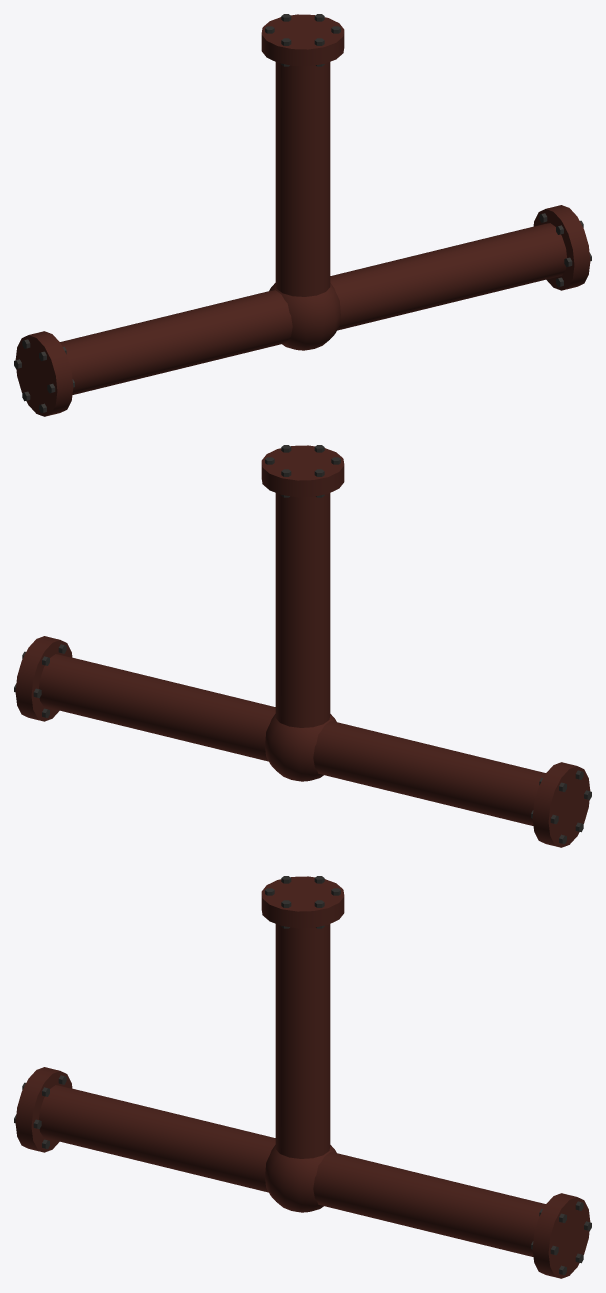
The model's file is PipeTee.fbx.
3 renders of one model, top to bottom at view 1: azimuth 30°, elevation 25°; view 2: azimuth 150°, elevation 25°; view 3: azimuth 330°, elevation 25°, orthographic.
Visible parts, largest first — view 1: PipeTee_Pipe, PipeTee_Bolts; view 2: PipeTee_Pipe, PipeTee_Bolts; view 3: PipeTee_Pipe, PipeTee_Bolts.
Boxes of the visible parts, x1,y1,x2,y2 form: PipeTee_Pipe: (15, 14, 590, 416); PipeTee_Bolts: (14, 14, 591, 413); PipeTee_Pipe: (15, 445, 590, 847); PipeTee_Bolts: (14, 445, 591, 844); PipeTee_Pipe: (15, 876, 590, 1278); PipeTee_Bolts: (14, 876, 591, 1275).
Bounding box in the file's own units: 1.01 × 0.575 × 0.136.
